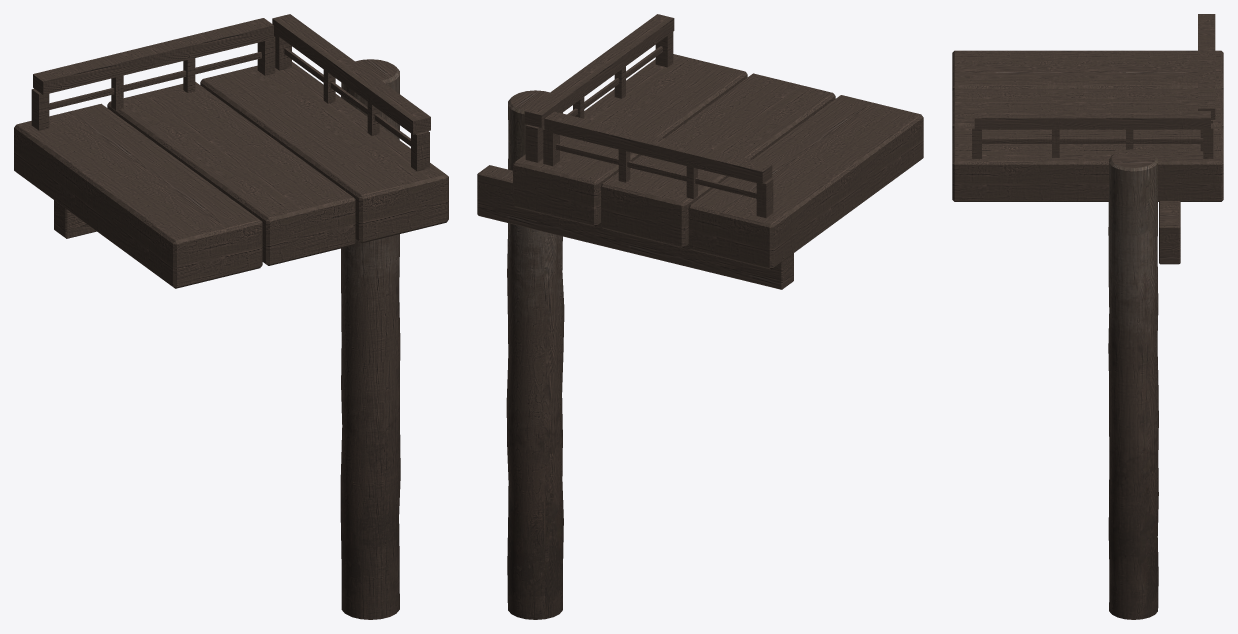
Rendered from japanese_walkway_bridge_corner.FBX.
3 views of the same model, side by side, from view 1: azimuth 30°, elevation 25°; view 2: azimuth 150°, elevation 25°; view 3: azimuth 270°, elevation 25° (orthographic). The views are drawn at different scales.
Parts seen in each view (by area): view 1: japanese_walkway_bridge_corner; view 2: japanese_walkway_bridge_corner; view 3: japanese_walkway_bridge_corner.
Boxes of the visible parts, x1,y1,x2,y2 form: japanese_walkway_bridge_corner: [14, 14, 448, 619]; japanese_walkway_bridge_corner: [477, 14, 923, 619]; japanese_walkway_bridge_corner: [952, 14, 1223, 619].
Size of the model in its own units: 132 by 212 by 109.
